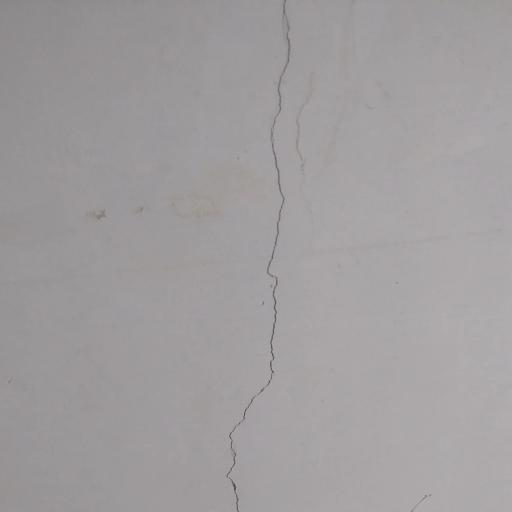major_crack: (218, 0, 325, 512)
